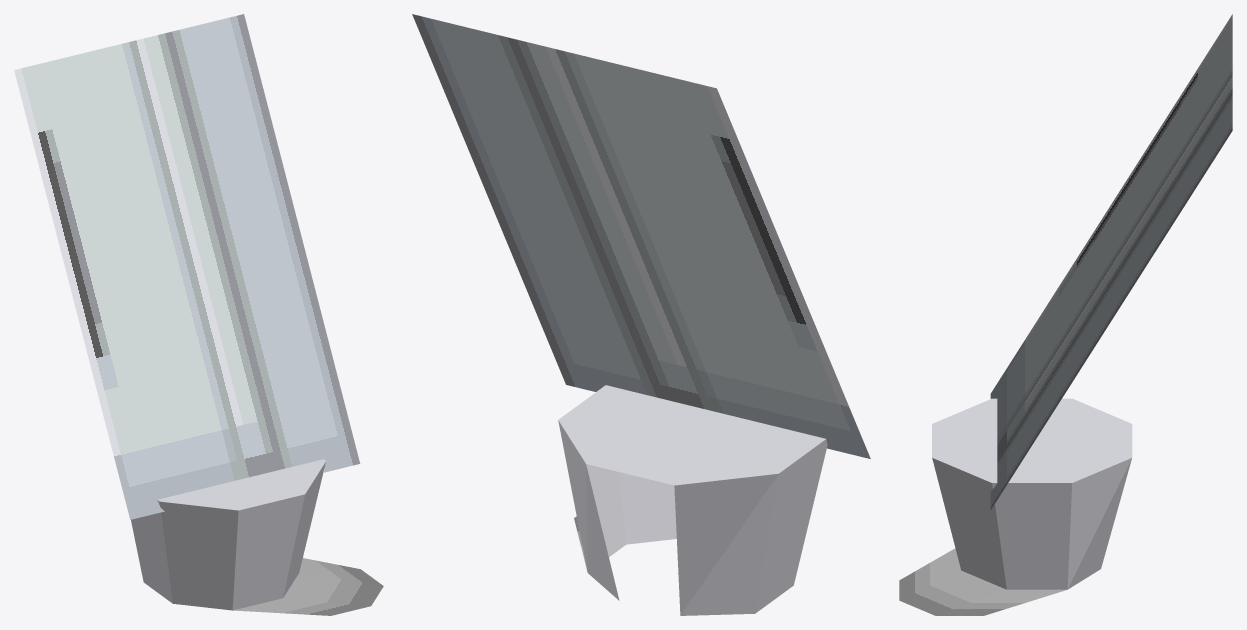
The picture shows the model from 3 angles, left to right: view 1: azimuth 30°, elevation 25°; view 2: azimuth 150°, elevation 25°; view 3: azimuth 270°, elevation 25°; orthographic projection. The views are drawn at different scales.
Parts seen in each view (by area): view 1: polygon0, polygon1; view 2: polygon0; view 3: polygon0, polygon1.
Boxes of the visible parts, bbox=[...] form: polygon0: bbox=[14, 14, 360, 610]; polygon1: bbox=[233, 558, 383, 615]; polygon0: bbox=[412, 14, 870, 615]; polygon0: bbox=[932, 14, 1232, 589]; polygon1: bbox=[899, 548, 1067, 615].
Bounding box in the file's own units: 4 × 7.76 × 4.82.
